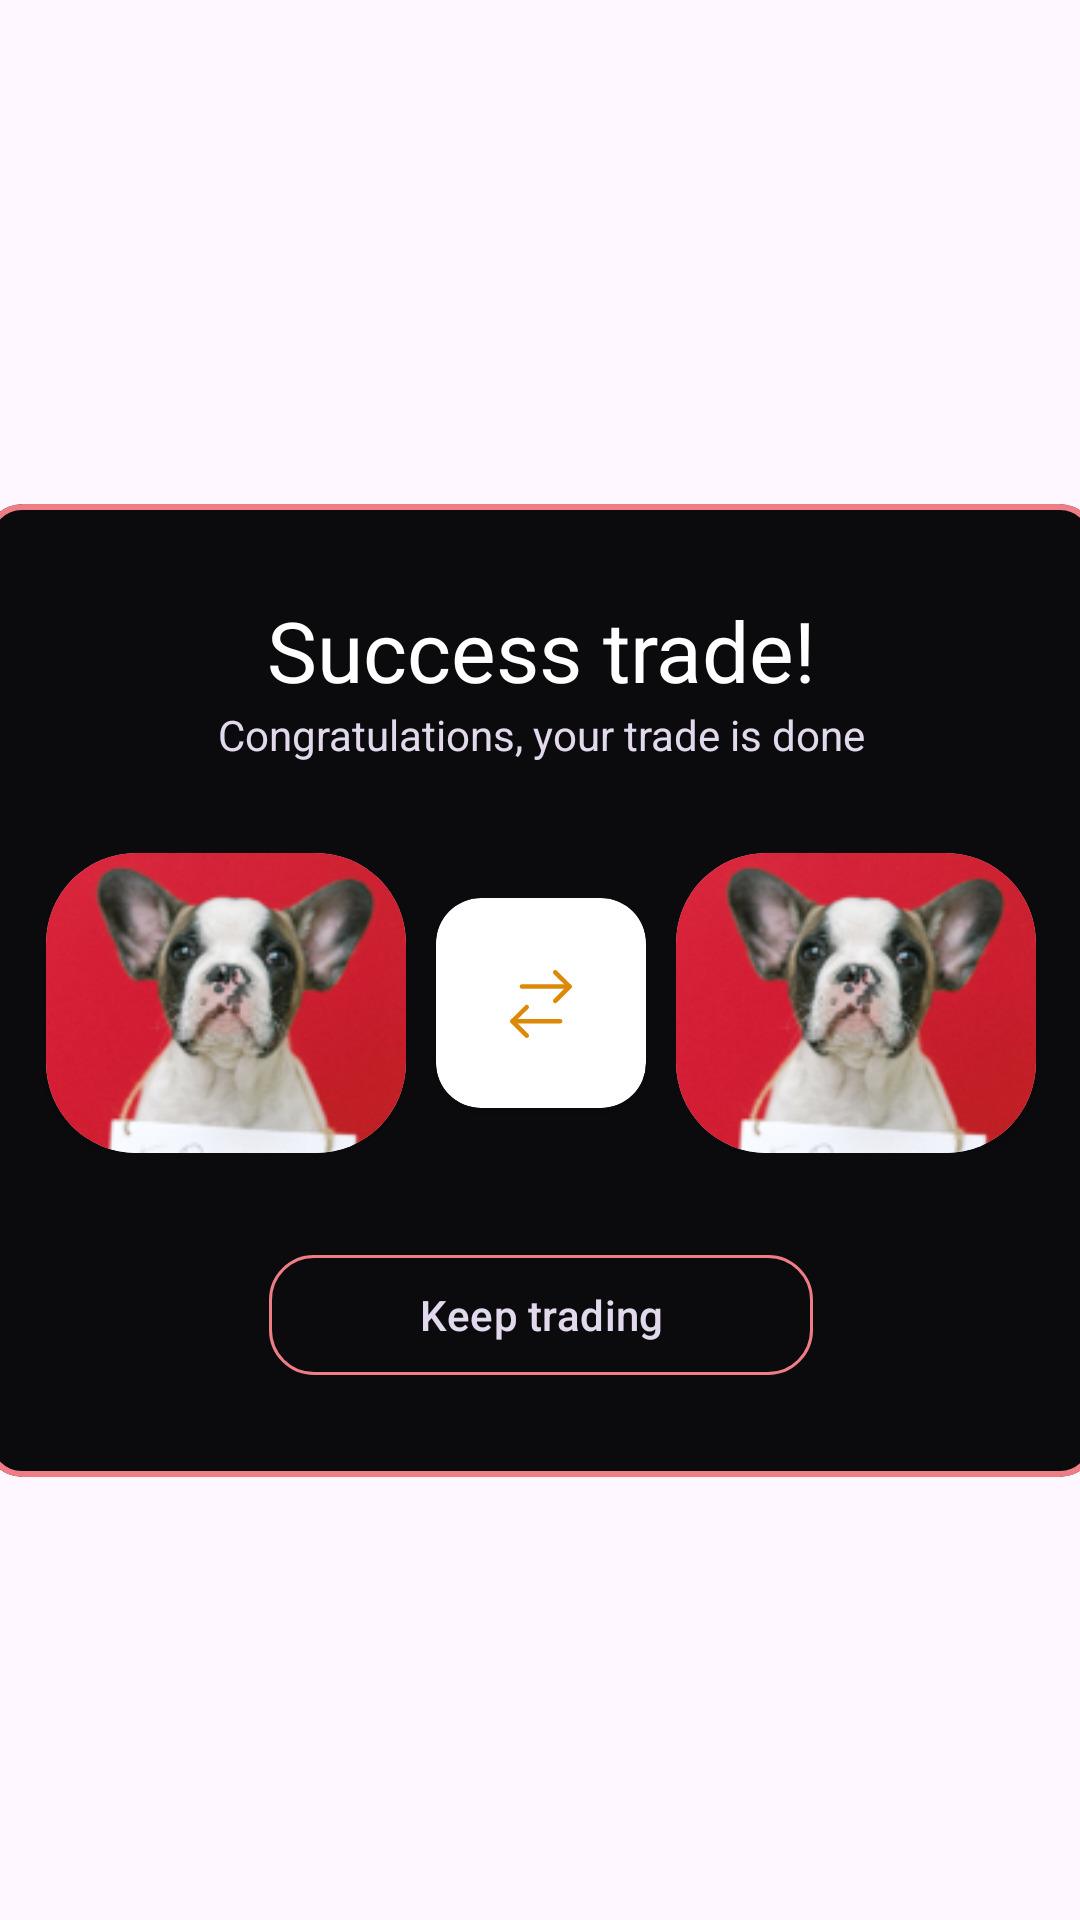

Icons on this 1080px×1920px Android screen, each with its box as (x1, y1, x2, y2):
swap: (510, 970, 572, 1038)
